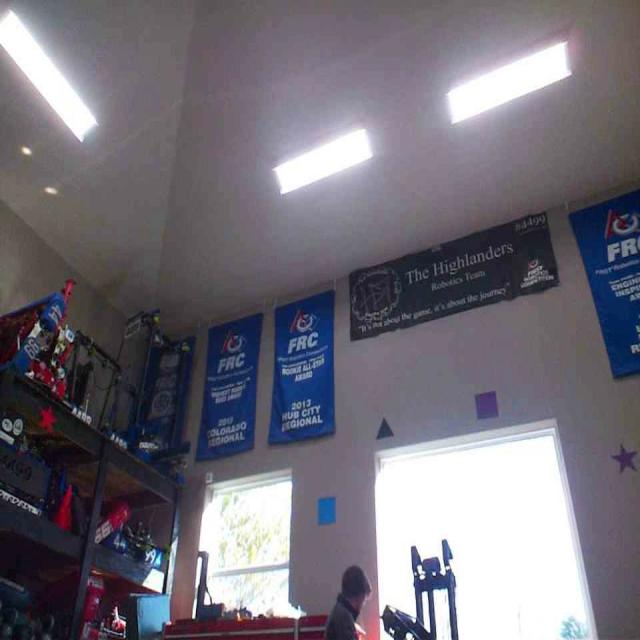square_blue: (315, 495, 336, 526)
square_purple: (474, 388, 499, 418)
star_purple: (610, 444, 638, 474)
star_red: (38, 405, 56, 433)
triangle_black: (376, 417, 393, 440)
